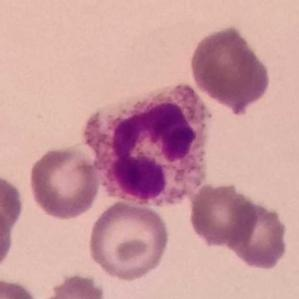Neutrophil: (78, 76, 211, 207)
RBC: (187, 23, 273, 112), (85, 199, 172, 282), (26, 143, 102, 221), (186, 180, 260, 248), (225, 198, 290, 272), (104, 150, 169, 205), (37, 271, 110, 299), (0, 171, 26, 238), (0, 204, 16, 275), (0, 275, 40, 299)
